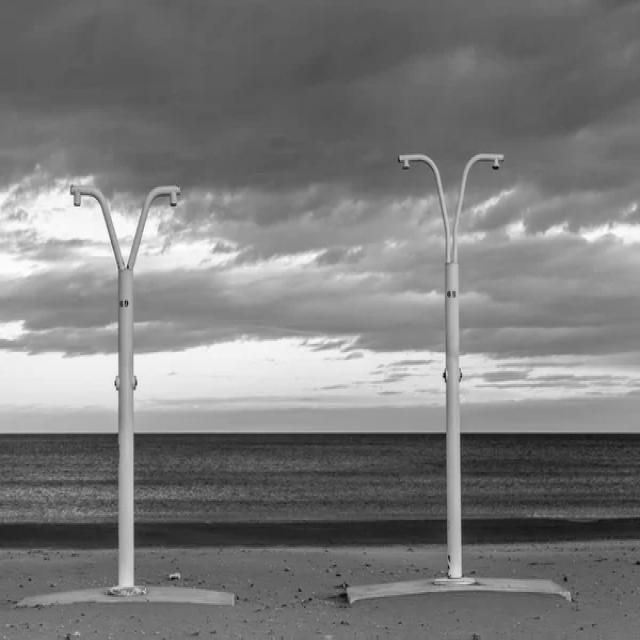Pole: (399, 152, 506, 580), (70, 186, 180, 596)
